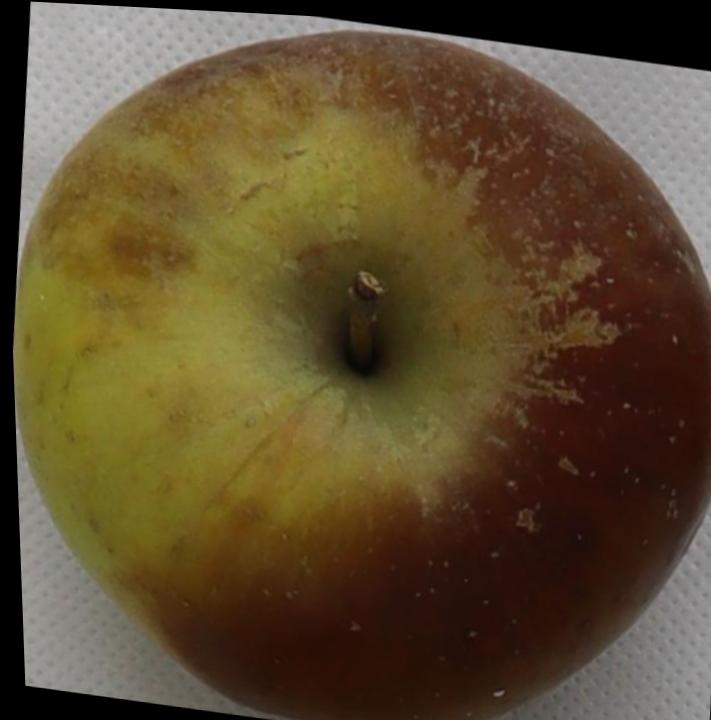apple: (13, 31, 711, 720)
rot_mold_decay: (158, 31, 711, 720), (28, 29, 485, 311)
